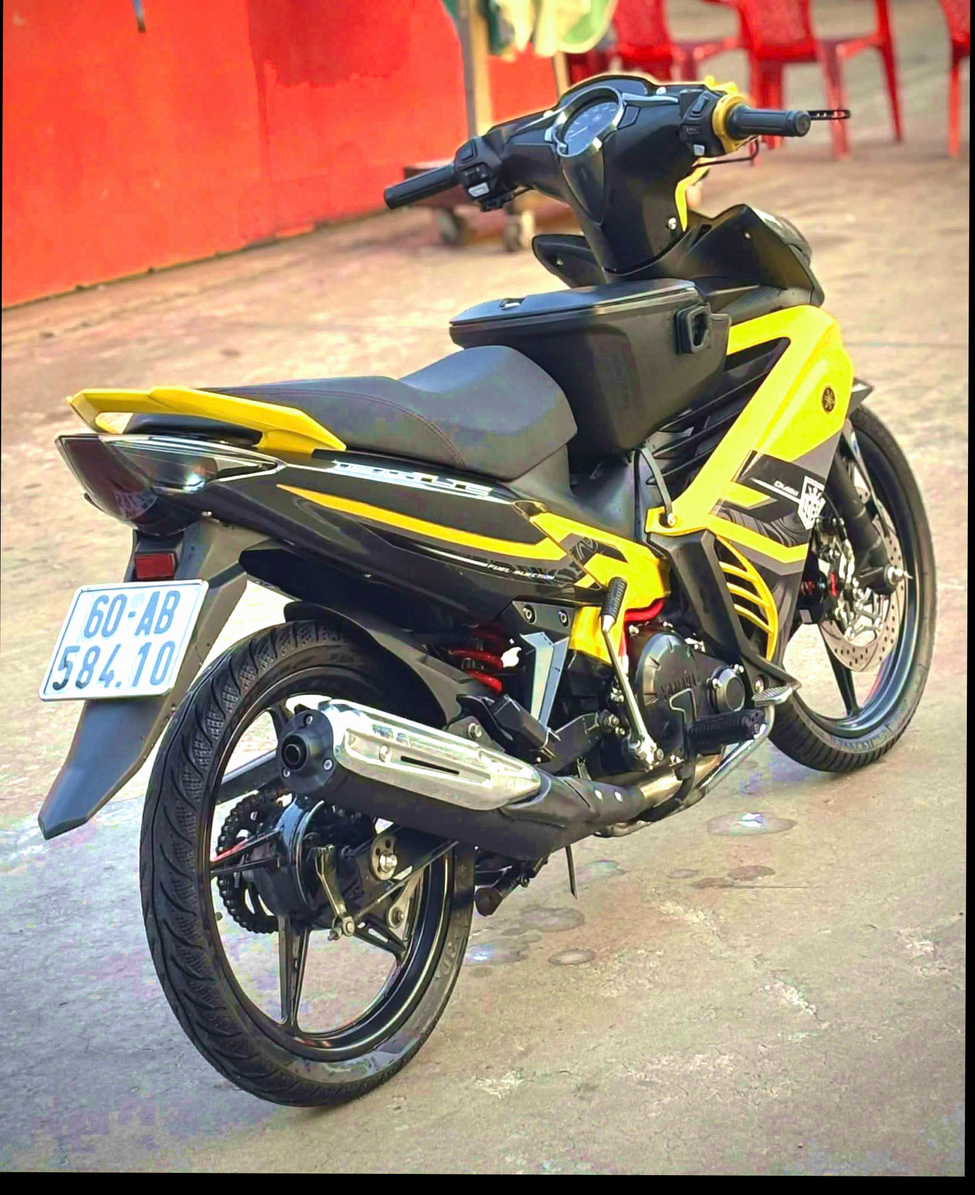Bien-so: (35, 657, 194, 777)
